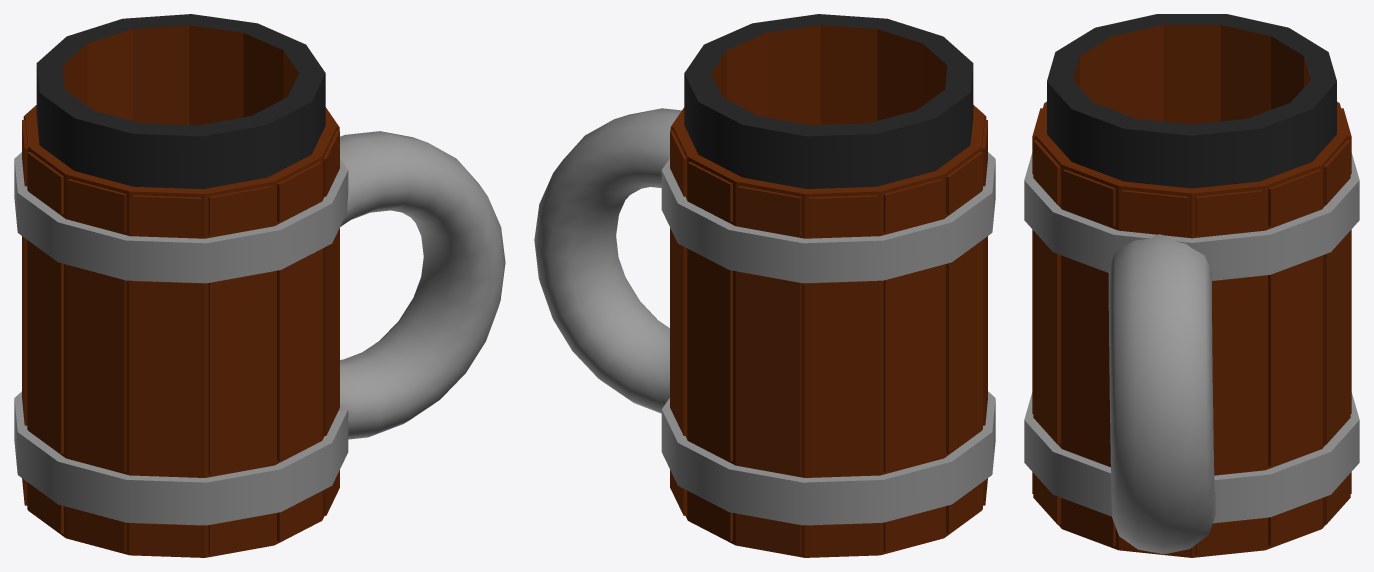
The model's file is verre.fbx.
The picture shows the model from 3 angles, left to right: view 1: azimuth 30°, elevation 25°; view 2: azimuth 150°, elevation 25°; view 3: azimuth 270°, elevation 25°; orthographic projection.
Visible parts, largest first — view 1: Torus002; view 2: Torus002; view 3: Torus002.
Part boxes in pixels (x1,y1,x2,y2): Torus002: (14,14,505,557); Torus002: (534,14,995,557); Torus002: (1024,14,1359,557).
Bounding box in the file's own units: 42.23 × 37.85 × 27.58.
